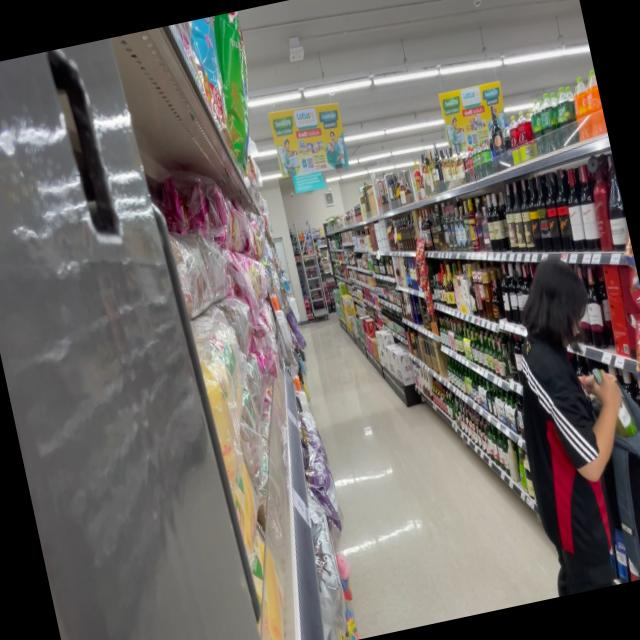shoplifting: (485, 240, 640, 597)
